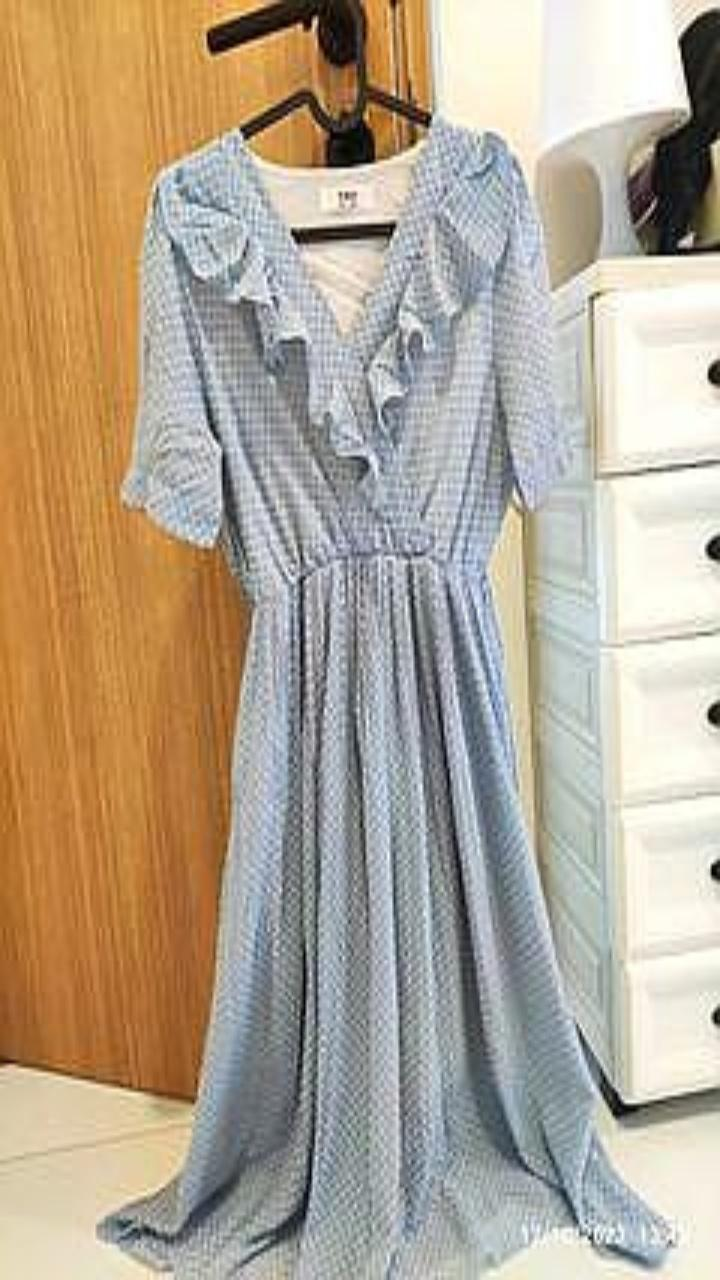Dresses: (96, 115, 673, 1279)
